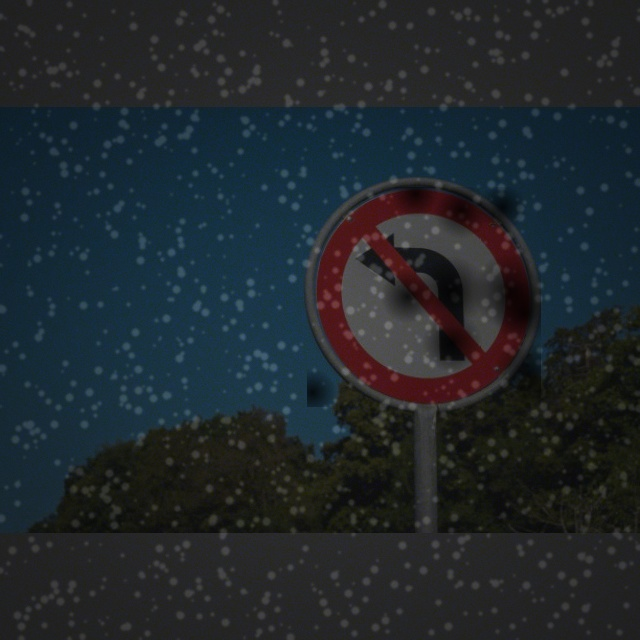Left_Turn_Prohibited: (307, 187, 541, 407)
